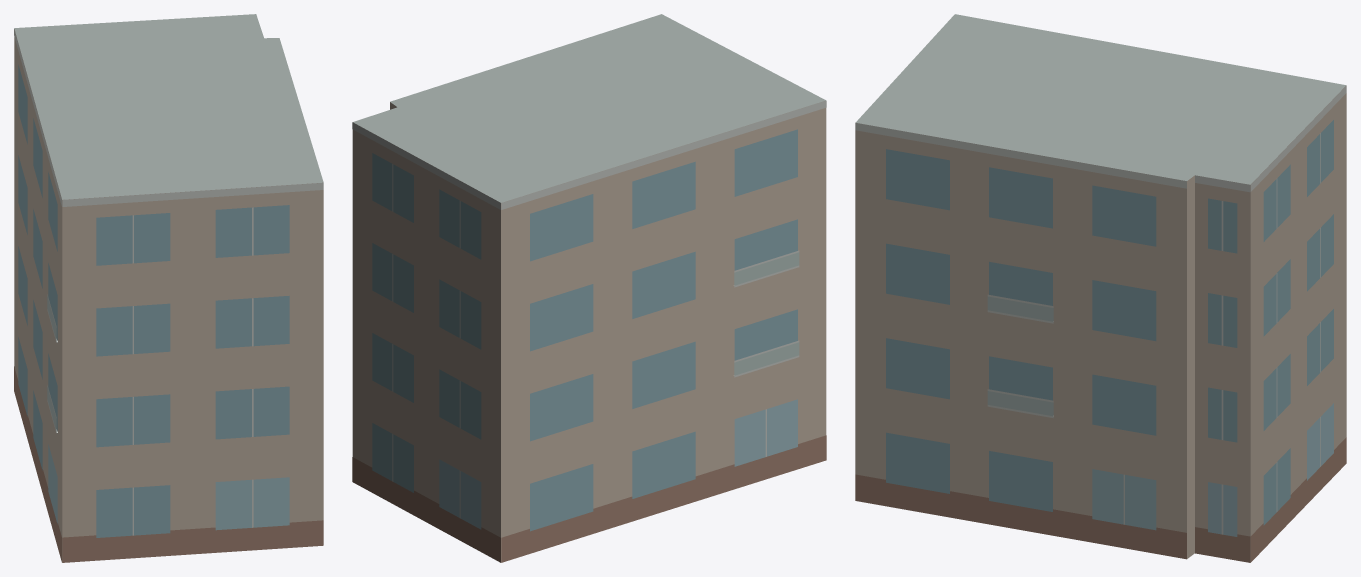
The model's file is survey-upis-32614349.glb.
3 renders of one model, left to right at view 1: azimuth 30°, elevation 25°; view 2: azimuth 150°, elevation 25°; view 3: azimuth 270°, elevation 25°, orthographic. The views are drawn at different scales.
Visible parts, largest first — view 1: survey-upis-32614349.tmp; view 2: survey-upis-32614349.tmp; view 3: survey-upis-32614349.tmp.
Boxes of the visible parts, left/top/right/bottom form: survey-upis-32614349.tmp: left=14, top=14, right=323, bottom=562; survey-upis-32614349.tmp: left=352, top=14, right=826, bottom=562; survey-upis-32614349.tmp: left=855, top=14, right=1346, bottom=562.
Size of the model in its own units: 11.83 by 12.2 by 14.37.
